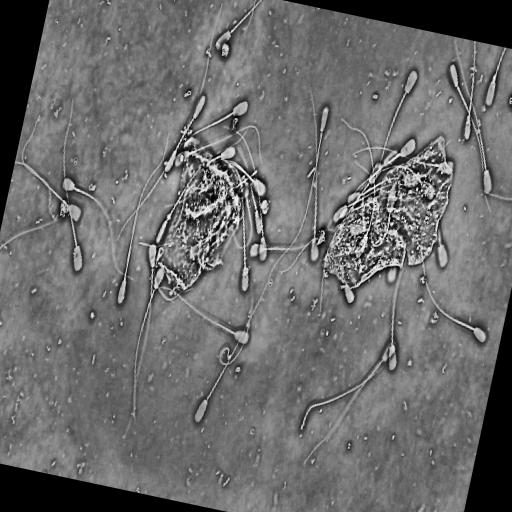dirt-particles: (320, 134, 455, 291), (153, 123, 252, 296), (315, 227, 327, 247), (58, 198, 68, 219), (259, 197, 269, 215), (221, 41, 230, 59), (230, 115, 239, 132), (507, 94, 512, 109)
loose-tail: (298, 357, 388, 433), (20, 113, 54, 220), (218, 286, 254, 367), (277, 228, 337, 275), (0, 217, 62, 250)
normal: (115, 93, 207, 242), (299, 337, 399, 469), (192, 271, 274, 425), (162, 0, 224, 175), (269, 104, 329, 271), (115, 131, 171, 307), (60, 175, 135, 283), (448, 63, 492, 215), (451, 36, 493, 195), (219, 124, 267, 261), (419, 254, 488, 345), (131, 264, 166, 432), (156, 285, 250, 346), (372, 68, 419, 187), (339, 114, 377, 260), (14, 161, 82, 223), (154, 161, 203, 245), (172, 123, 263, 168), (61, 94, 83, 274), (131, 242, 157, 391), (178, 98, 249, 147), (386, 250, 408, 373), (214, 0, 263, 52), (308, 81, 320, 264), (483, 48, 507, 108), (462, 41, 476, 142), (249, 240, 317, 258), (239, 186, 250, 295)
proximal-droplet: (492, 74, 496, 82)
